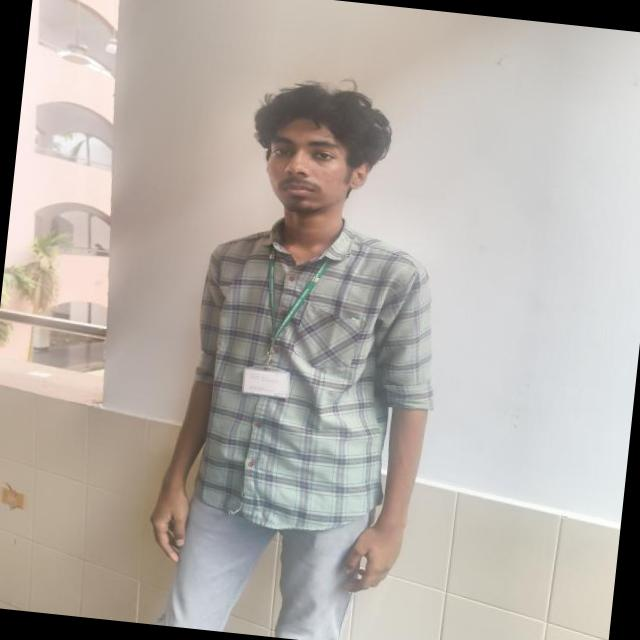id_card: (244, 245, 314, 400)
